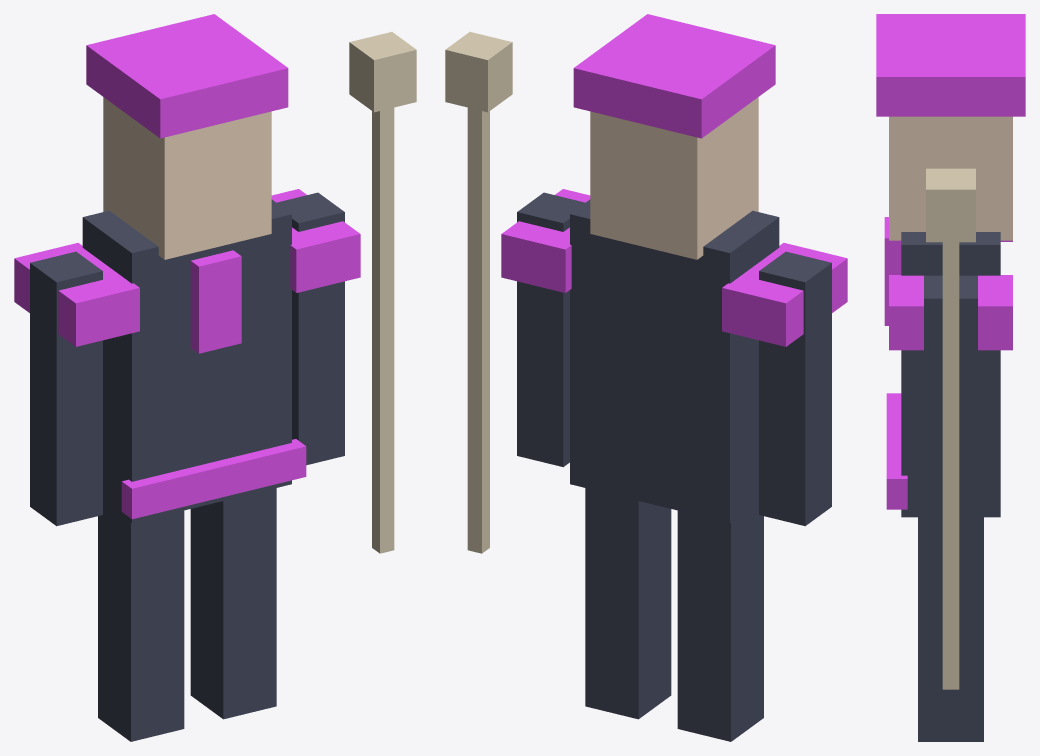
File: 20_rook_trenchmark_medic_from_executive.glb
The picture shows the model from 3 angles, left to right: view 1: azimuth 30°, elevation 25°; view 2: azimuth 150°, elevation 25°; view 3: azimuth 270°, elevation 25°; orthographic projection.
Visible parts, largest first — view 1: Rook Trenchmark, Medic from Executive; view 2: Rook Trenchmark, Medic from Executive; view 3: Rook Trenchmark, Medic from Executive.
Part boxes in pixels (left/top/right/bottom): Rook Trenchmark, Medic from Executive: left=14, top=14, right=416, bottom=741; Rook Trenchmark, Medic from Executive: left=445, top=14, right=847, bottom=741; Rook Trenchmark, Medic from Executive: left=876, top=14, right=1025, bottom=741.
Bounding box in the file's own units: 0.9682 × 1.68 × 0.3434.
